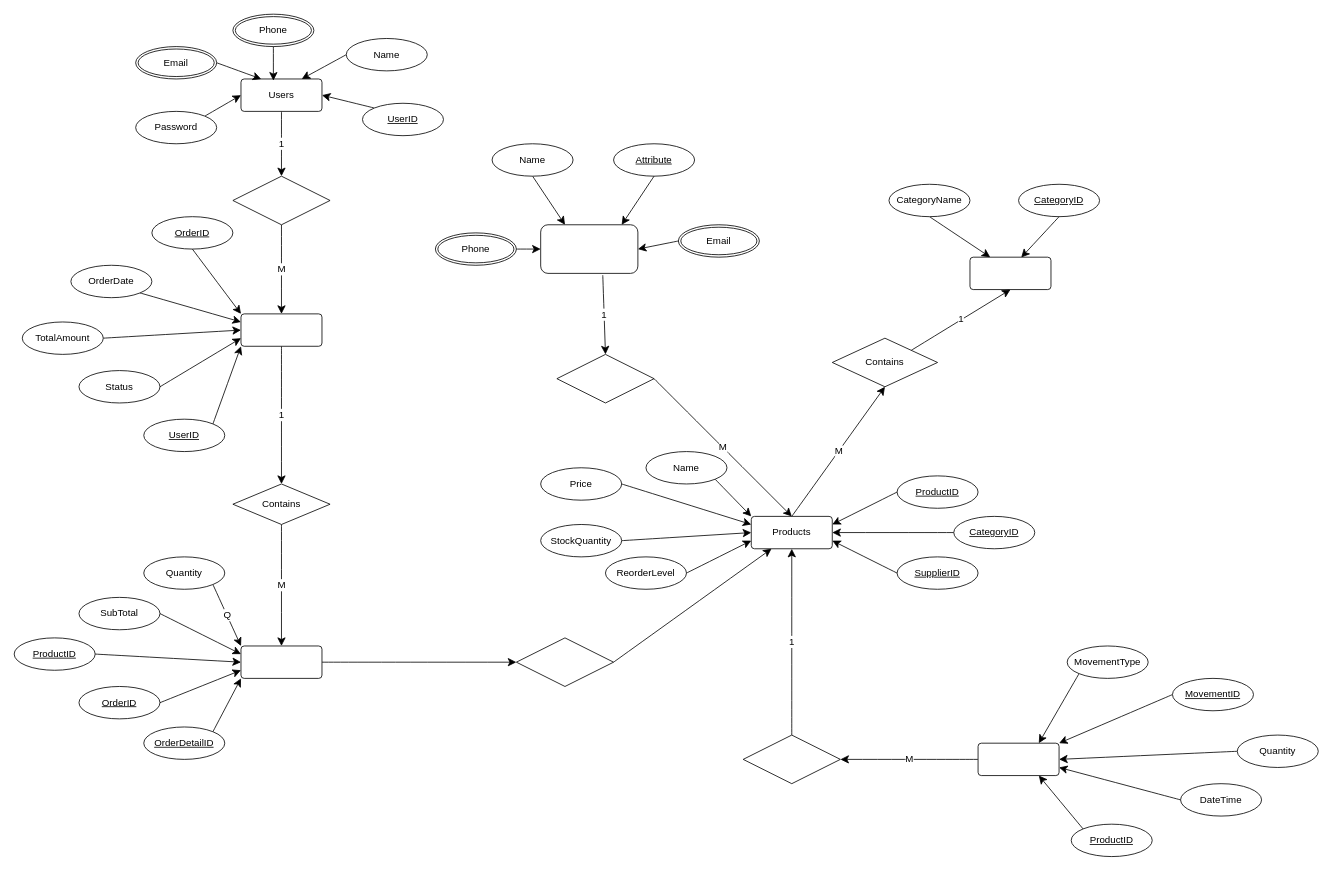
Some shapes in this 1332 by 871 pixel diagram are drawn without their labels. Here are the shapes that lost their labels. From the top down, the centre of each, then its label:
the point at 281,200: Places
the point at 589,248: Suppliers
the point at 1010,273: Categories
the point at 281,329: Orders
the point at 605,378: Supplies
the point at 281,661: Order_Details
the point at 565,661: Includes
the point at 791,759: Tracks
the point at 1018,759: Stock_movement
